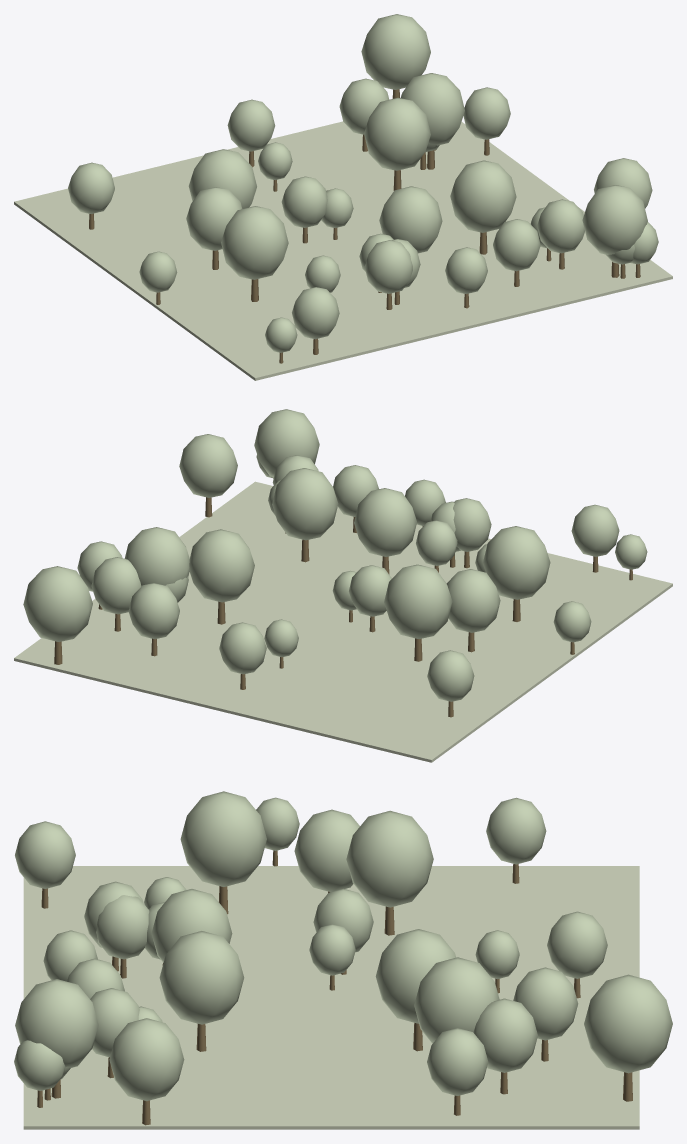
3 renders of one model, top to bottom at view 1: azimuth 30°, elevation 25°; view 2: azimuth 150°, elevation 25°; view 3: azimuth 270°, elevation 25°, orthographic. The views are drawn at different scales.
Parts seen in each view (by area): view 1: terrain, lod-near-26, lod-near-22, lod-near-24, lod-near-2, lod-near-8, lod-near-19, lod-near-6, lod-near-31, lod-near-21, lod-near-5, lod-near-0 (+15 smaller); view 2: terrain, lod-near-26, lod-near-31, lod-near-22, lod-near-24, lod-near-2, lod-near-19, lod-near-6, lod-near-8, lod-near-10, lod-near-21, lod-near-12 (+15 smaller); view 3: terrain, lod-near-26, lod-near-31, lod-near-22, lod-near-2, lod-near-8, lod-near-6, lod-near-10, lod-near-24, lod-near-21, lod-near-14, lod-near-19 (+16 smaller).
Boxes of the visible parts, left/top/right/bottom form: terrain: left=14, top=121, right=672, bottom=380; lod-near-26: left=361, top=14, right=430, bottom=89; lod-near-22: left=221, top=206, right=288, bottom=279; lod-near-24: left=364, top=97, right=430, bottom=170; lod-near-2: left=450, top=160, right=516, bottom=232; lod-near-8: left=582, top=185, right=647, bottom=254; lod-near-19: left=379, top=186, right=442, bottom=253; lod-near-6: left=400, top=73, right=464, bottom=145; lod-near-31: left=188, top=149, right=256, bottom=208; lod-near-21: left=186, top=187, right=242, bottom=250; lod-near-5: left=537, top=199, right=584, bottom=253; lod-near-0: left=364, top=240, right=412, bottom=293; terrain: left=14, top=481, right=672, bottom=762; lod-near-26: left=23, top=566, right=92, bottom=641; lod-near-31: left=384, top=564, right=452, bottom=638; lod-near-22: left=483, top=526, right=550, bottom=599; lod-near-24: left=189, top=529, right=254, bottom=602; lod-near-2: left=272, top=468, right=338, bottom=540; lod-near-19: left=354, top=488, right=416, bottom=556; lod-near-6: left=124, top=527, right=189, bottom=585; lod-near-8: left=254, top=409, right=319, bottom=477; lod-near-10: left=179, top=434, right=237, bottom=497; lod-near-21: left=446, top=569, right=500, bottom=632; lod-near-12: left=128, top=583, right=179, bottom=639; terrain: left=23, top=866, right=639, bottom=1129; lod-near-26: left=584, top=974, right=672, bottom=1073; lod-near-31: left=346, top=810, right=433, bottom=907; lod-near-22: left=180, top=791, right=266, bottom=886; lod-near-2: left=159, top=931, right=244, bottom=1024; lod-near-8: left=15, top=979, right=98, bottom=1067; lod-near-6: left=414, top=957, right=499, bottom=1043; lod-near-10: left=109, top=1018, right=184, bottom=1101; lod-near-24: left=375, top=929, right=455, bottom=1023; lod-near-21: left=294, top=809, right=359, bottom=892; lod-near-14: left=473, top=998, right=537, bottom=1072; lod-near-19: left=151, top=889, right=232, bottom=962.
Size of the model in its own units: 34.94 by 7.29 by 34.24.
